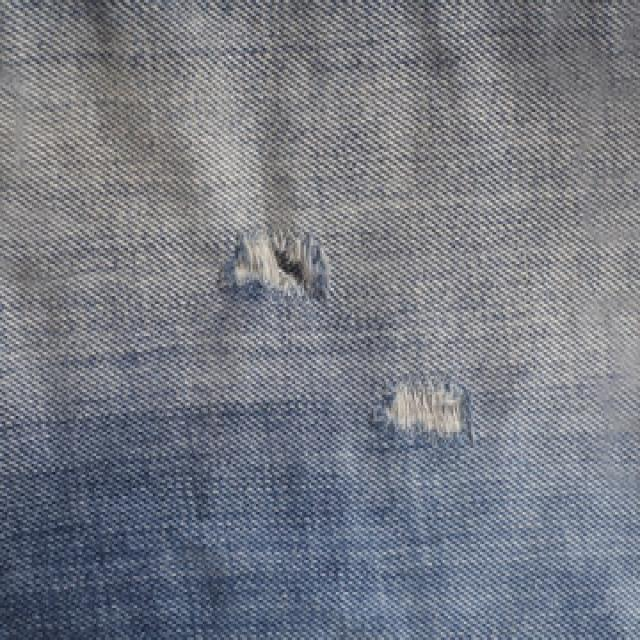Hole: (219, 225, 329, 302), (374, 378, 474, 447)
